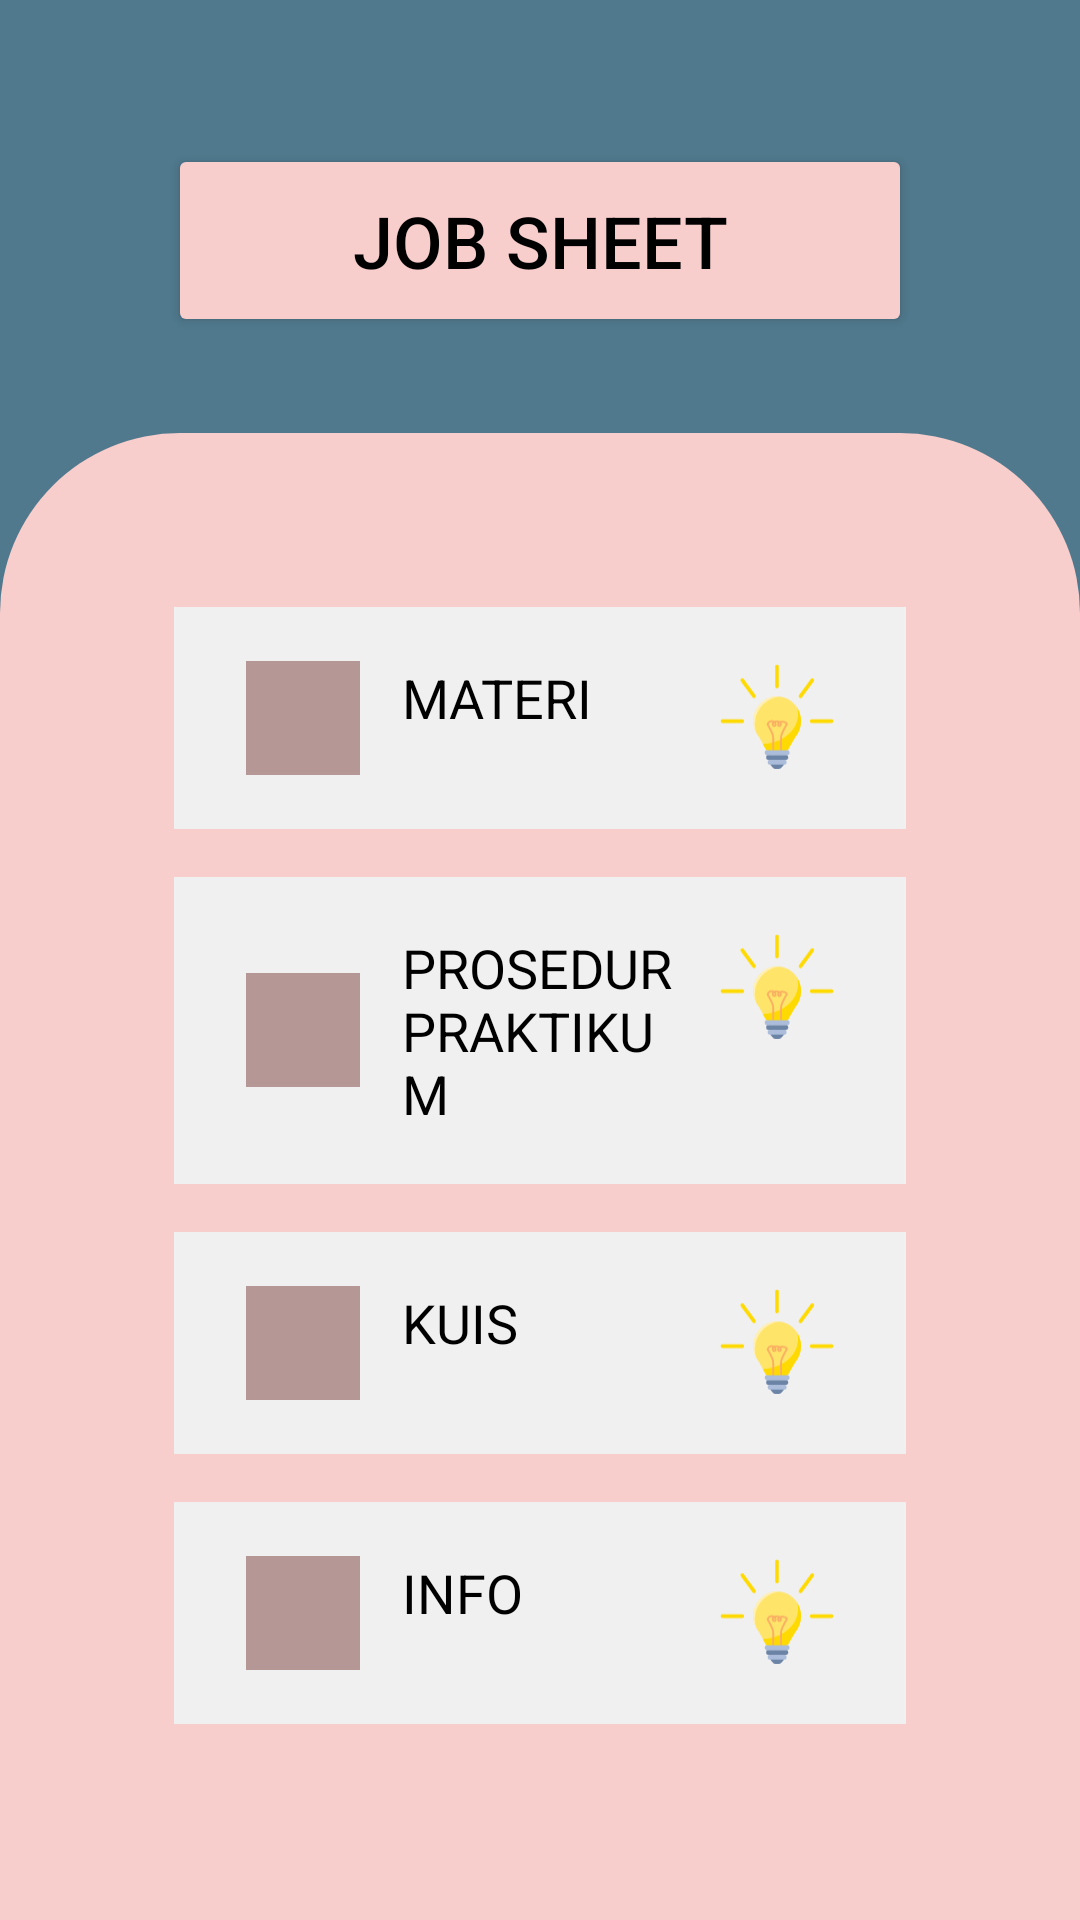

Named icons in this screenshot (1080 x 1920) and their centers, [x,y]:
lamp: [777,716], [777,986], [777,1341], [777,1611]
